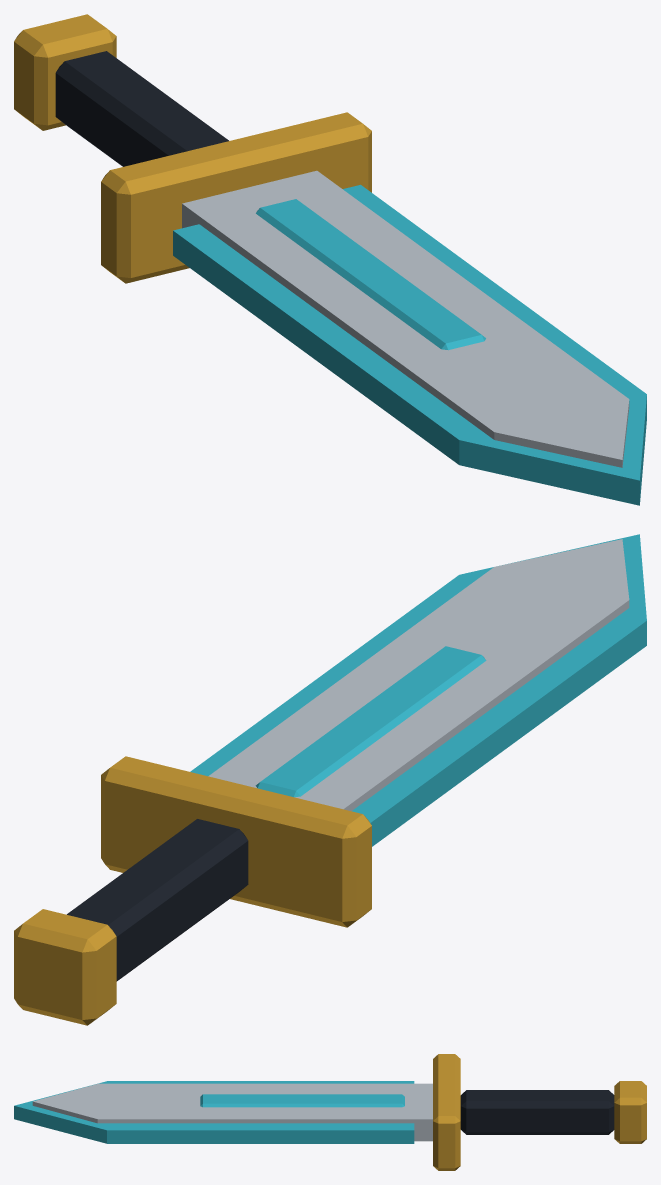
The model's file is wpn_blade.glb.
3 renders of one model, top to bottom at view 1: azimuth 30°, elevation 25°; view 2: azimuth 150°, elevation 25°; view 3: azimuth 270°, elevation 25°, orthographic. The views are drawn at different scales.
Visible parts, largest first — view 1: GEO_weapon; view 2: GEO_weapon; view 3: GEO_weapon.
Boxes of the visible parts, x1=… form: GEO_weapon: x1=14, y1=14, x2=646, y2=505; GEO_weapon: x1=14, y1=534, x2=646, y2=1025; GEO_weapon: x1=14, y1=1054, x2=646, y2=1170.
Size of the model in its own units: 0.442 by 0.169 by 1.77.
